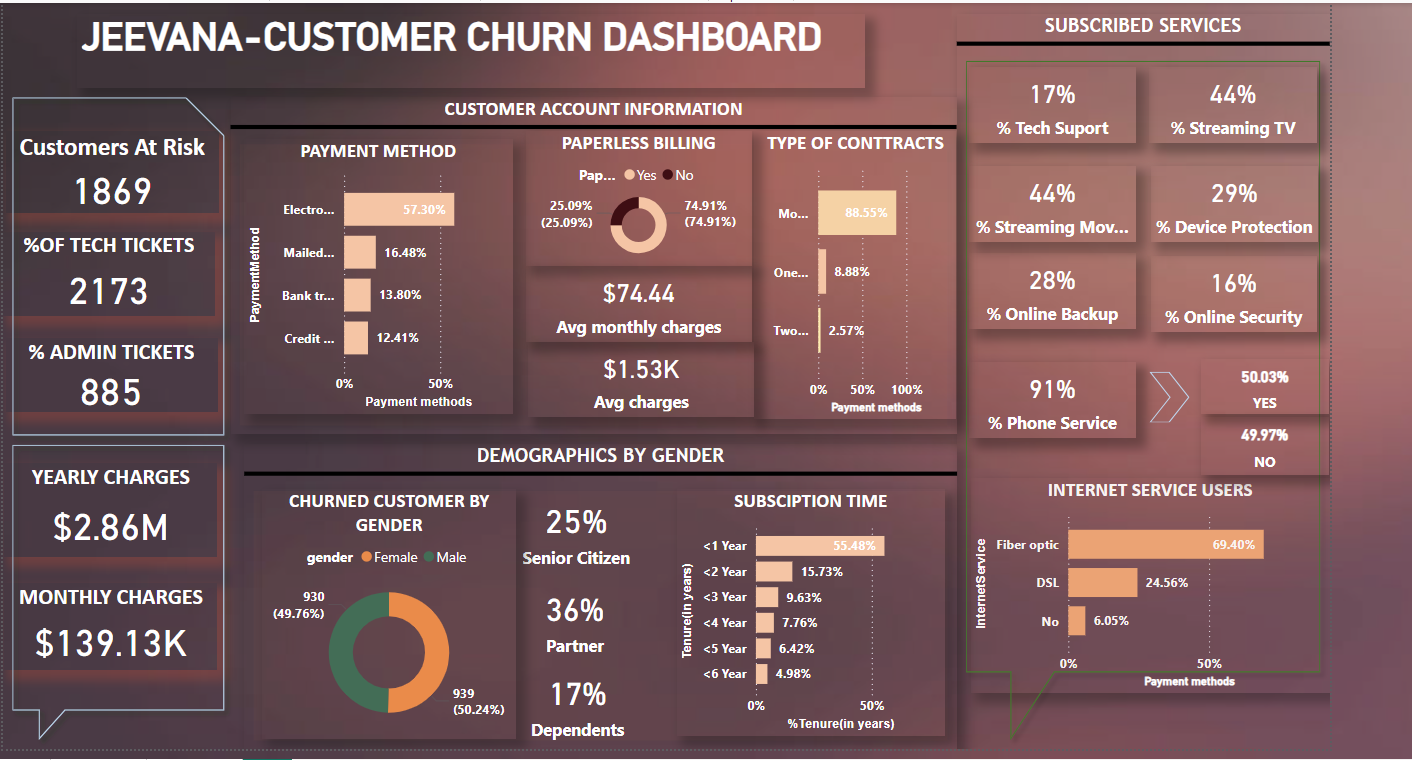

What the dashboard file says about the page in this screenshot:
{"tool":"powerbi","page":{"name":"Page 3","canvas":[1280,720],"ordinal":0},"visuals":[{"type":"textbox","title":"JEEVANA-CUSTOMER CHURN DASHBOARD","box":[71.2,10.4,761.2,71.2],"z":0},{"type":"card","title":"Customers At Risk","fields":{"Values":["Measure Table (DAX).Churned Customers"]},"box":[2.6,123,205.8,80.3],"z":1000},{"type":"card","title":"%OF TECH TICKETS","fields":{"Values":["Measure Table (DAX).#Tech Tickets"]},"box":[0,221.4,204.5,81.6],"z":2000},{"type":"card","title":"% ADMIN TICKETS","fields":{"Values":["Measure Table (DAX).#Admin Tickets"]},"box":[2.6,323.6,204.5,71.2],"z":3000},{"type":"card","title":"MONTHLY CHARGES","fields":{"Values":["Measure Table (DAX).Monthly Charges"]},"box":[1.3,559.2,205.8,84.1],"z":4000},{"type":"card","title":"YEARLY CHARGES","fields":{"Values":["Measure Table (DAX).Yearly Charges"]},"box":[1.3,444,205.8,90.6],"z":5000},{"type":"shape","box":[0,81.6,222.7,344.3],"z":6000},{"type":"shape","box":[0,416.8,222.7,302.9],"z":7000},{"type":"shape","title":"DEMOGRAPHICS BY GENDER","box":[232.8,425.9,687.7,294.4],"z":8000},{"type":"shape","title":"CUSTOMER ACCOUNT INFORMATION","box":[219.6,90.5,700.9,325.7],"z":9000},{"type":"clusteredBarChart","title":"INTERNET SERVICE USERS","fields":{"Y":["Measure Table (DAX).Payment methods"],"Category":["Copy of Customer Churn - Sheet1.InternetService"]},"box":[933.3,458.3,346.9,207.1],"z":10000},{"type":"donutChart","title":"PAPERLESS BILLING","fields":{"Y":["Measure Table (DAX).Payment methods"],"Category":["Copy of Customer Churn - Sheet1.PaperlessBilling"]},"box":[504.9,123,218.8,130.7],"z":11000},{"type":"card","title":"Customers At Risk","fields":{"Values":["Measure Table (DAX).Senior Citizen"]},"box":[495.8,469.9,115.2,80.3],"z":12000},{"type":"card","title":"Customers At Risk","fields":{"Values":["Measure Table (DAX).% of Partner"]},"box":[495.8,550.2,112.6,89.3],"z":13000},{"type":"card","title":"Customers At Risk","fields":{"Values":["Measure Table (DAX).% of Dependents"]},"box":[498.4,631.7,112.6,88],"z":14000},{"type":"donutChart","title":"CHURNED CUSTOMER BY GENDER","fields":{"Category":["Copy of Customer Churn - Sheet1.gender"],"Y":["Measure Table (DAX).Churned Customers"]},"box":[249.8,469.9,246,240.8],"z":15000},{"type":"card","title":"Customers At Risk","fields":{"Values":["Measure Table (DAX).Avg monthly charges"]},"box":[504.9,253.7,218.8,73.8],"z":16000},{"type":"card","title":"Customers At Risk","fields":{"Values":["Measure Table (DAX).Avg charges"]},"box":[506.2,327.5,218.8,72.5],"z":17000},{"type":"clusteredBarChart","title":"SUBSCIPTION TIME","fields":{"Y":["Measure Table (DAX).%Tenure(in years)"],"Category":["Copy of Customer Churn - Sheet1.Tenure(in years)"]},"box":[649.8,469.9,258.9,238.2],"z":18000},{"type":"clusteredBarChart","title":"TYPE OF CONTTRACTS","fields":{"Y":["Measure Table (DAX).Payment methods"],"Category":["Copy of Customer Churn - Sheet1.Contract"]},"box":[724.9,123,195.5,278.3],"z":19000},{"type":"shape","title":"SUBSCRIBED SERVICES","box":[920.4,10.4,359.9,709.4],"z":20000},{"type":"card","title":"Customers At Risk","fields":{"Values":["Measure Table (DAX).% Tech Suport"]},"box":[933.1,61.9,160.5,73.8],"z":21000},{"type":"card","title":"Customers At Risk","fields":{"Values":["Measure Table (DAX).% Streaming TV"]},"box":[1106.5,61.9,161.8,73.8],"z":22000},{"type":"card","title":"Customers At Risk","fields":{"Values":["Measure Table (DAX).% Streaming Movies"]},"box":[933.1,156.4,160.5,73.8],"z":23000},{"type":"card","title":"Customers At Risk","fields":{"Values":["Measure Table (DAX).% Online Security"]},"box":[1107.8,243.1,160.5,73.8],"z":24000},{"type":"card","title":"Customers At Risk","fields":{"Values":["Measure Table (DAX).% Online Backup"]},"box":[933.1,241.8,160.5,73.8],"z":25000},{"type":"card","title":"Customers At Risk","fields":{"Values":["Measure Table (DAX).% Device Protection"]},"box":[1107.8,156.4,161.8,73.8],"z":26000},{"type":"card","title":"Customers At Risk","fields":{"Values":["Measure Table (DAX).% Phone Service"]},"box":[933.1,346.7,160.5,73.8],"z":27000},{"type":"shape","box":[1106.5,355.7,38.8,49.2],"z":28000},{"type":"card","title":"Customers At Risk","fields":{"Values":["Measure Table (DAX).Multiple Lines (Yes)"]},"box":[1155.7,344.1,124.3,53.1],"z":29000},{"type":"card","title":"Customers At Risk","fields":{"Values":["Measure Table (DAX).Multiple Lines (No)"]},"box":[1155.7,399.7,124.3,55.7],"z":30000},{"type":"clusteredBarChart","title":"PAYMENT METHOD","fields":{"Y":["Measure Table (DAX).Payment methods"],"Category":["Copy of Customer Churn - Sheet1.PaymentMethod"]},"box":[233,132,258.9,265.4],"z":31000},{"type":"shape","box":[932.6,326.9,347.5,131.5],"z":31001}]}

Visuals, with their boxes on the page's 1280x720 design canvas (x1, y1, x2, y2). These are canvas units, not pixel positions in the 1412x760 screenshot, which may show the page scaled, cropped or inside an application window:
"JEEVANA-CUSTOMER CHURN DASHBOARD" textbox: left=71, top=10, right=832, bottom=82
"Customers At Risk" card: left=3, top=123, right=208, bottom=203
"%OF TECH TICKETS" card: left=0, top=221, right=204, bottom=303
"% ADMIN TICKETS" card: left=3, top=324, right=207, bottom=395
"MONTHLY CHARGES" card: left=1, top=559, right=207, bottom=643
"YEARLY CHARGES" card: left=1, top=444, right=207, bottom=535
shape: left=0, top=82, right=223, bottom=426
shape: left=0, top=417, right=223, bottom=720
"DEMOGRAPHICS BY GENDER" shape: left=233, top=426, right=920, bottom=720
"CUSTOMER ACCOUNT INFORMATION" shape: left=220, top=90, right=920, bottom=416
"INTERNET SERVICE USERS" clusteredBarChart: left=933, top=458, right=1280, bottom=665
"PAPERLESS BILLING" donutChart: left=505, top=123, right=724, bottom=254
"Customers At Risk" card: left=496, top=470, right=611, bottom=550
"Customers At Risk" card: left=496, top=550, right=608, bottom=640
"Customers At Risk" card: left=498, top=632, right=611, bottom=720
"CHURNED CUSTOMER BY GENDER" donutChart: left=250, top=470, right=496, bottom=711
"Customers At Risk" card: left=505, top=254, right=724, bottom=328
"Customers At Risk" card: left=506, top=328, right=725, bottom=400
"SUBSCIPTION TIME" clusteredBarChart: left=650, top=470, right=909, bottom=708
"TYPE OF CONTTRACTS" clusteredBarChart: left=725, top=123, right=920, bottom=401
"SUBSCRIBED SERVICES" shape: left=920, top=10, right=1280, bottom=720
"Customers At Risk" card: left=933, top=62, right=1094, bottom=136
"Customers At Risk" card: left=1106, top=62, right=1268, bottom=136
"Customers At Risk" card: left=933, top=156, right=1094, bottom=230
"Customers At Risk" card: left=1108, top=243, right=1268, bottom=317
"Customers At Risk" card: left=933, top=242, right=1094, bottom=316
"Customers At Risk" card: left=1108, top=156, right=1270, bottom=230
"Customers At Risk" card: left=933, top=347, right=1094, bottom=420
shape: left=1106, top=356, right=1145, bottom=405
"Customers At Risk" card: left=1156, top=344, right=1280, bottom=397
"Customers At Risk" card: left=1156, top=400, right=1280, bottom=455
"PAYMENT METHOD" clusteredBarChart: left=233, top=132, right=492, bottom=397
shape: left=933, top=327, right=1280, bottom=458
